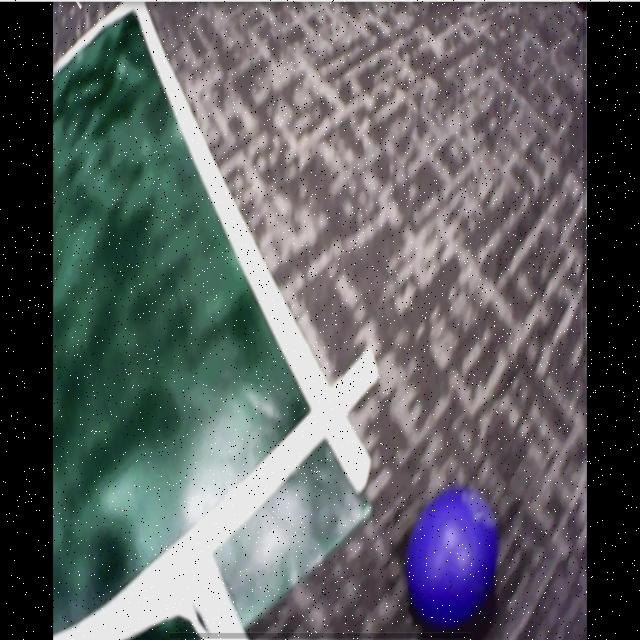ball: (409, 487, 501, 633)
